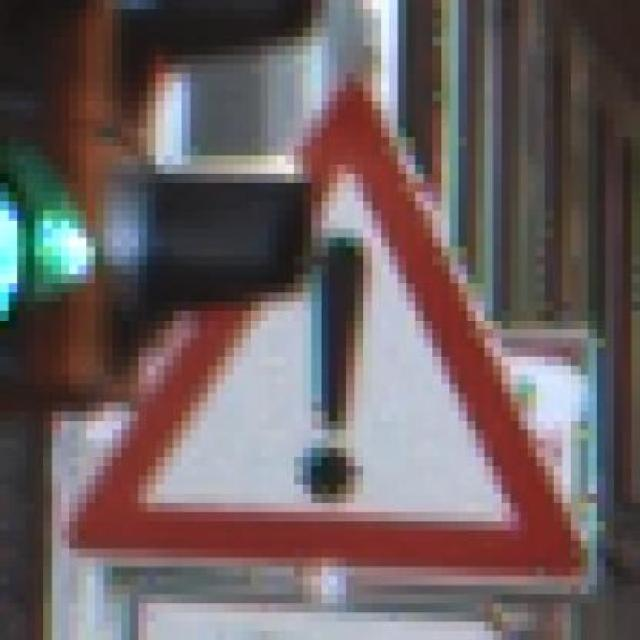Attention Please-: (50, 67, 588, 616)
